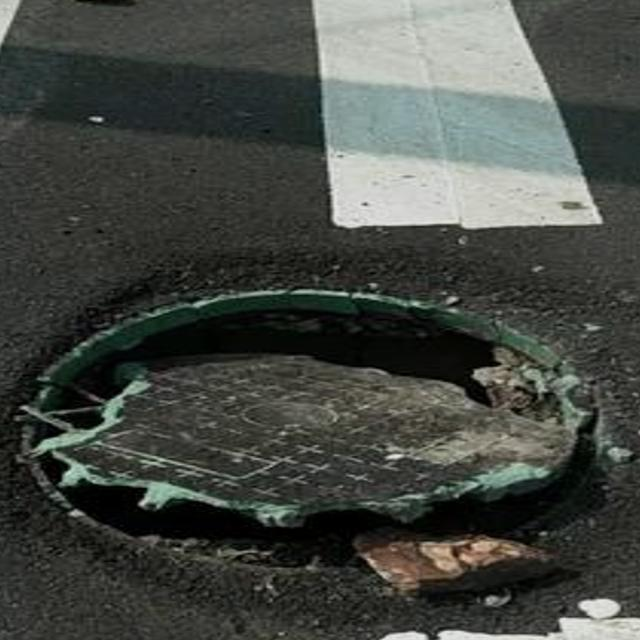broke: (0, 242, 640, 621)
